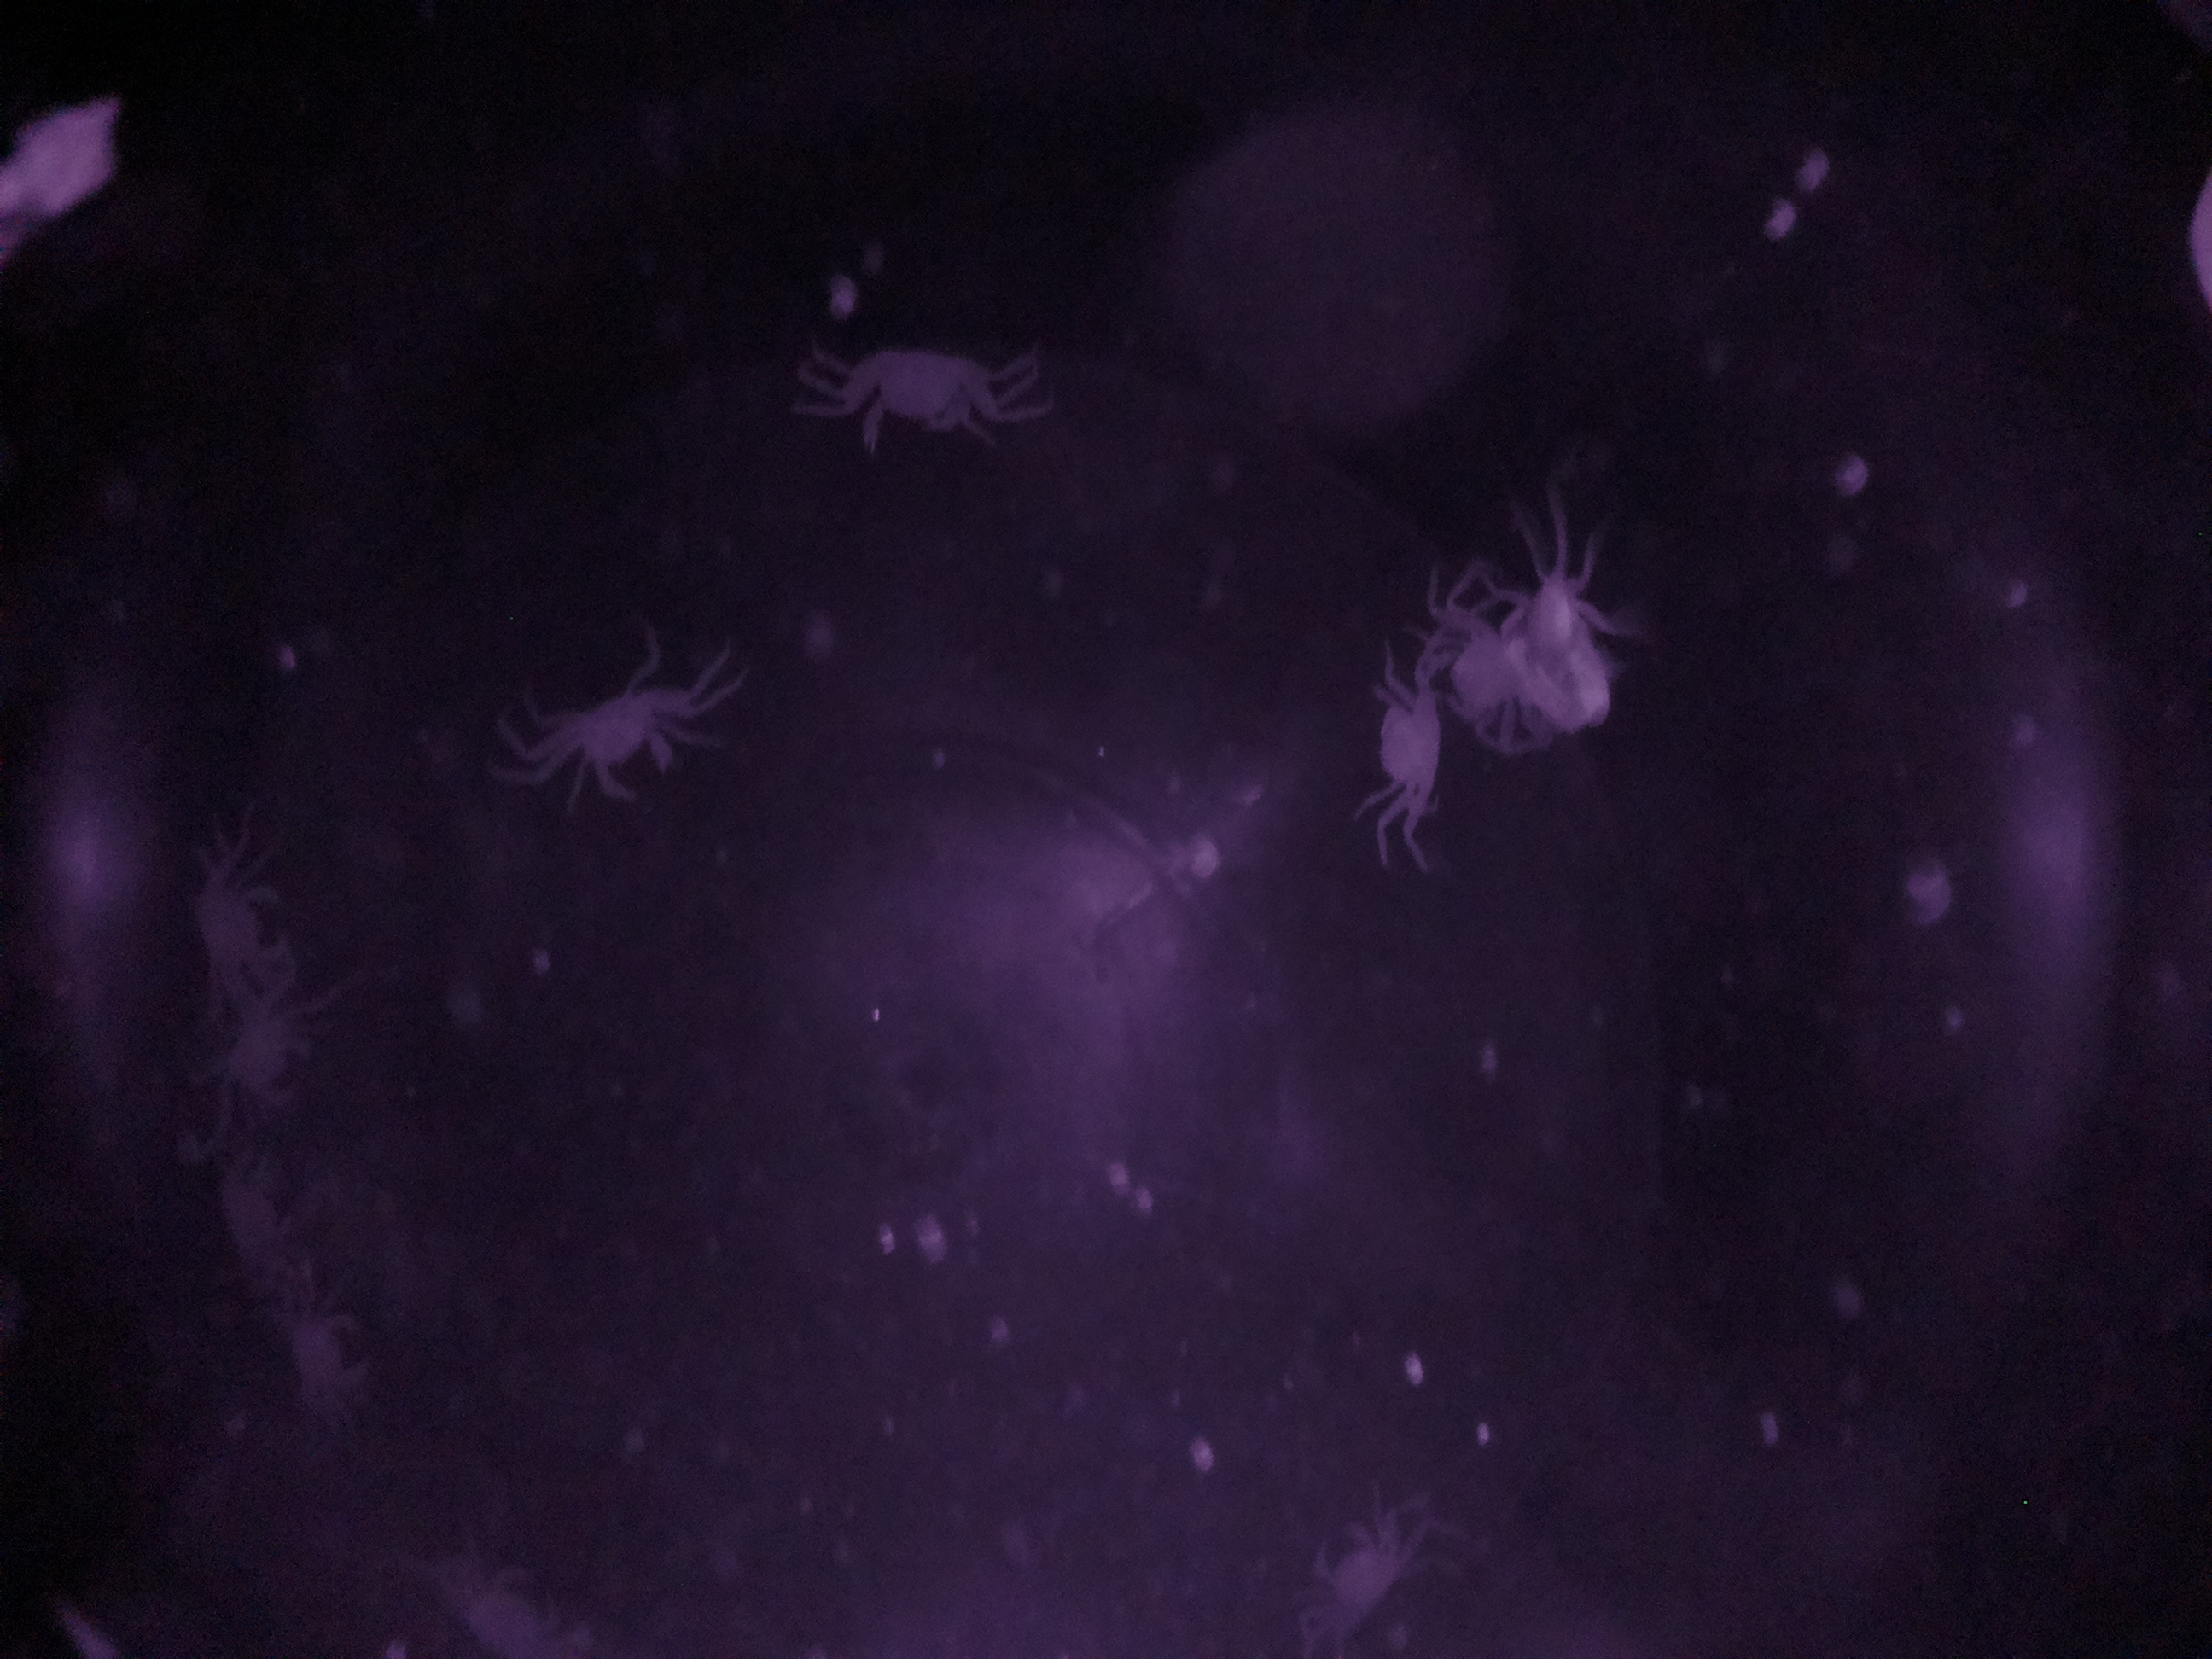Crab: (512, 662, 721, 814), (826, 310, 1026, 465), (1341, 643, 1486, 829)
